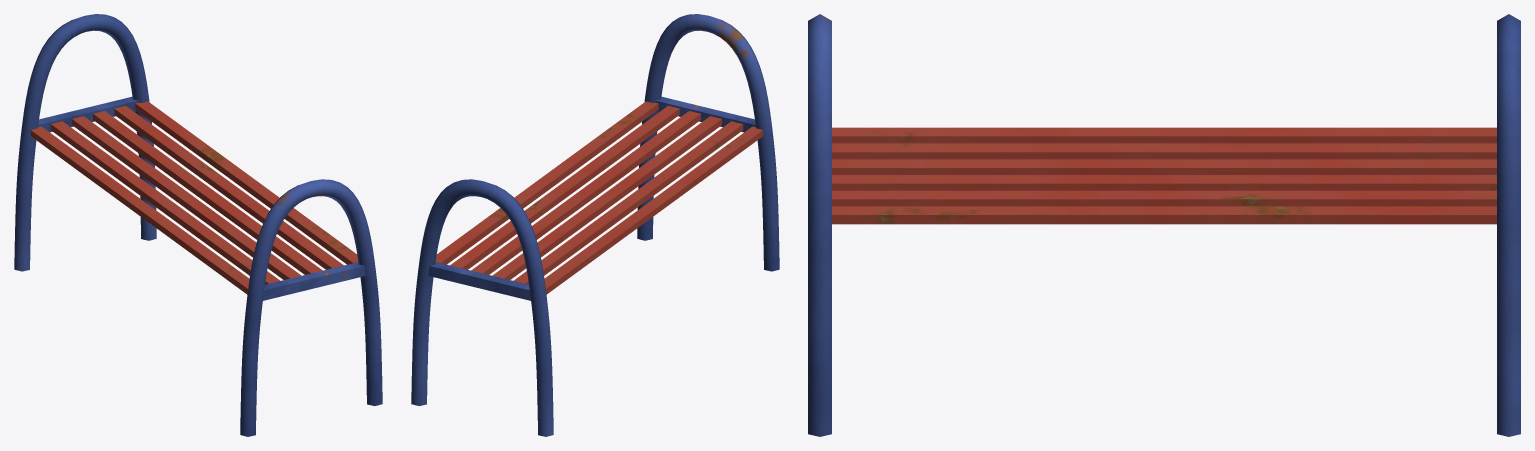
Rendered from bench.glb.
3 views of the same model, side by side, from view 1: azimuth 30°, elevation 25°; view 2: azimuth 150°, elevation 25°; view 3: azimuth 270°, elevation 25° (orthographic). The views are drawn at different scales.
Visible parts, largest first — view 1: Cube.002, object 1, Cube; view 2: Cube.002, object 1, Cube; view 3: Cube.002, object 1.
Part boxes in pixels (bbox=[...]): Cube.002: bbox=[30, 101, 358, 294]; object 1: bbox=[14, 14, 382, 436]; Cube: bbox=[38, 96, 365, 300]; Cube.002: bbox=[435, 101, 763, 294]; object 1: bbox=[411, 14, 779, 436]; Cube: bbox=[428, 96, 755, 300]; Cube.002: bbox=[832, 127, 1496, 224]; object 1: bbox=[808, 14, 1520, 436].
Bounding box in the file's own units: 0.7281 × 1.16 × 2.07.
Materials: 3 (3 with a texture image).
